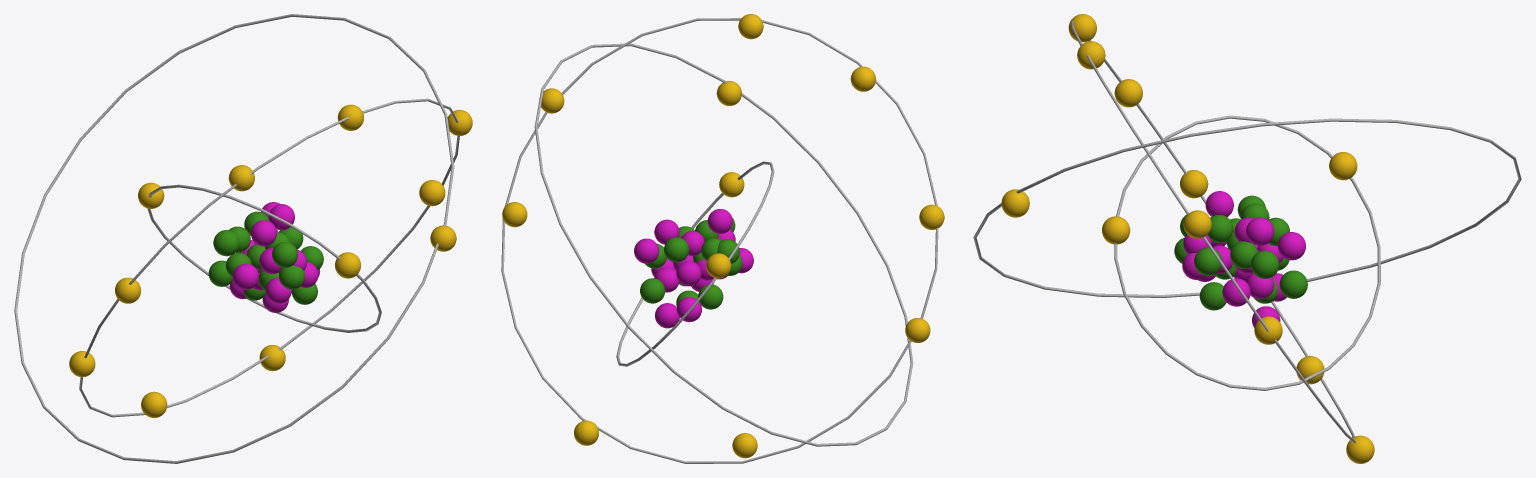
Rendered from sodiumatom.fbx.
3 views of the same model, side by side, from view 1: azimuth 30°, elevation 25°; view 2: azimuth 150°, elevation 25°; view 3: azimuth 270°, elevation 25° (orthographic). The views are drawn at different scales.
Parts seen in each view (by area): view 1: Torus2, Torus1, Torus, Sphere40, Sphere25, Sphere1, Sphere43, Sphere23, Sphere16, Sphere19, Sphere75, Sphere18 (+10 smaller); view 2: Torus1, Torus2, Torus, Sphere30, Sphere10, Sphere33, Sphere52, Sphere23, Sphere14, Sphere2, Sphere25, Sphere45 (+11 smaller); view 3: Torus2, Torus, Torus1, Sphere17, Sphere69, Sphere52, Sphere10, Sphere14, Sphere32, Sphere51, Sphere19, Sphere16 (+12 smaller).
Part boxes in pixels (x1,y1,x2,y2): Torus2: (14, 14, 454, 463); Torus1: (79, 98, 459, 417); Torus: (147, 184, 381, 332); Sphere40: (250, 220, 276, 246); Sphere25: (419, 180, 445, 206); Sphere1: (232, 263, 258, 289); Sphere43: (213, 230, 239, 256); Sphere23: (141, 391, 167, 417); Sphere16: (335, 252, 360, 278); Sphere19: (69, 351, 95, 377); Sphere75: (272, 241, 297, 267); Sphere18: (430, 225, 456, 251); Torus1: (501, 18, 938, 463); Torus2: (534, 43, 913, 446); Torus: (616, 161, 774, 366); Sphere30: (738, 14, 763, 39); Sphere10: (640, 278, 665, 303); Sphere33: (850, 66, 875, 91); Sphere52: (634, 238, 659, 263); Sphere23: (732, 433, 757, 458); Sphere14: (706, 253, 731, 278); Sphere2: (676, 261, 701, 286); Sphere25: (502, 202, 527, 227); Sphere45: (664, 237, 689, 262); Torus2: (973, 118, 1521, 297); Torus: (1114, 115, 1380, 390); Torus1: (1070, 21, 1355, 443); Sphere17: (1183, 210, 1211, 238); Sphere69: (1251, 250, 1279, 278); Sphere52: (1277, 232, 1305, 260); Sphere10: (1279, 270, 1307, 298); Sphere14: (1329, 152, 1357, 180); Sphere32: (1114, 79, 1142, 107); Sphere51: (1246, 217, 1274, 245); Sphere19: (1180, 170, 1208, 198); Sphere16: (1102, 216, 1130, 244).
Bounding box in the file's own units: 17.86 × 15.48 × 19.28.
